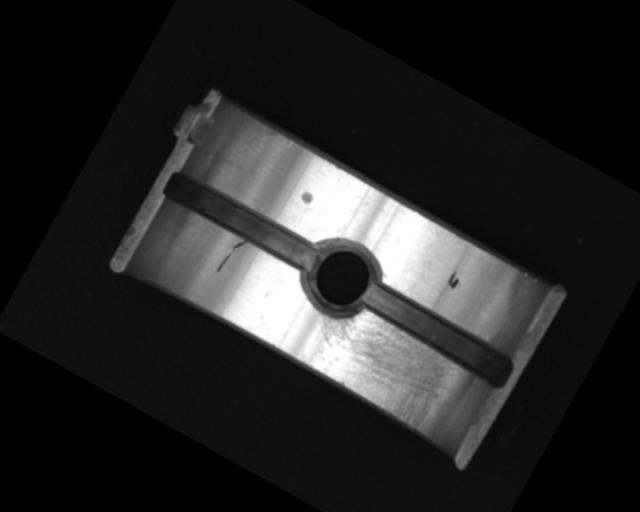blot: (444, 270, 462, 291)
bruise: (298, 188, 315, 206)
gap: (158, 164, 324, 278), (355, 277, 519, 390)
hole: (289, 226, 391, 331)
nick: (215, 232, 248, 277)
scratch: (293, 289, 467, 437)
